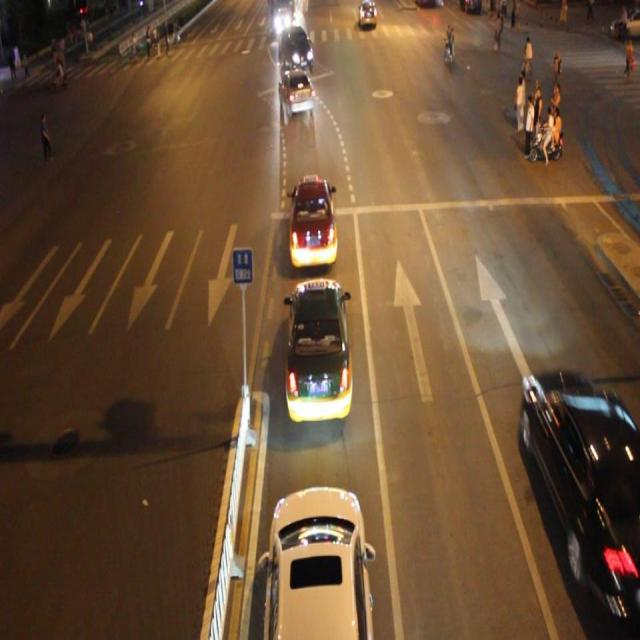car: (520, 373, 640, 625), (259, 479, 375, 640), (282, 274, 354, 422), (288, 176, 338, 268), (278, 67, 314, 113), (280, 23, 313, 68), (357, 1, 377, 32)
